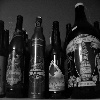beer: (26, 13, 45, 100)
